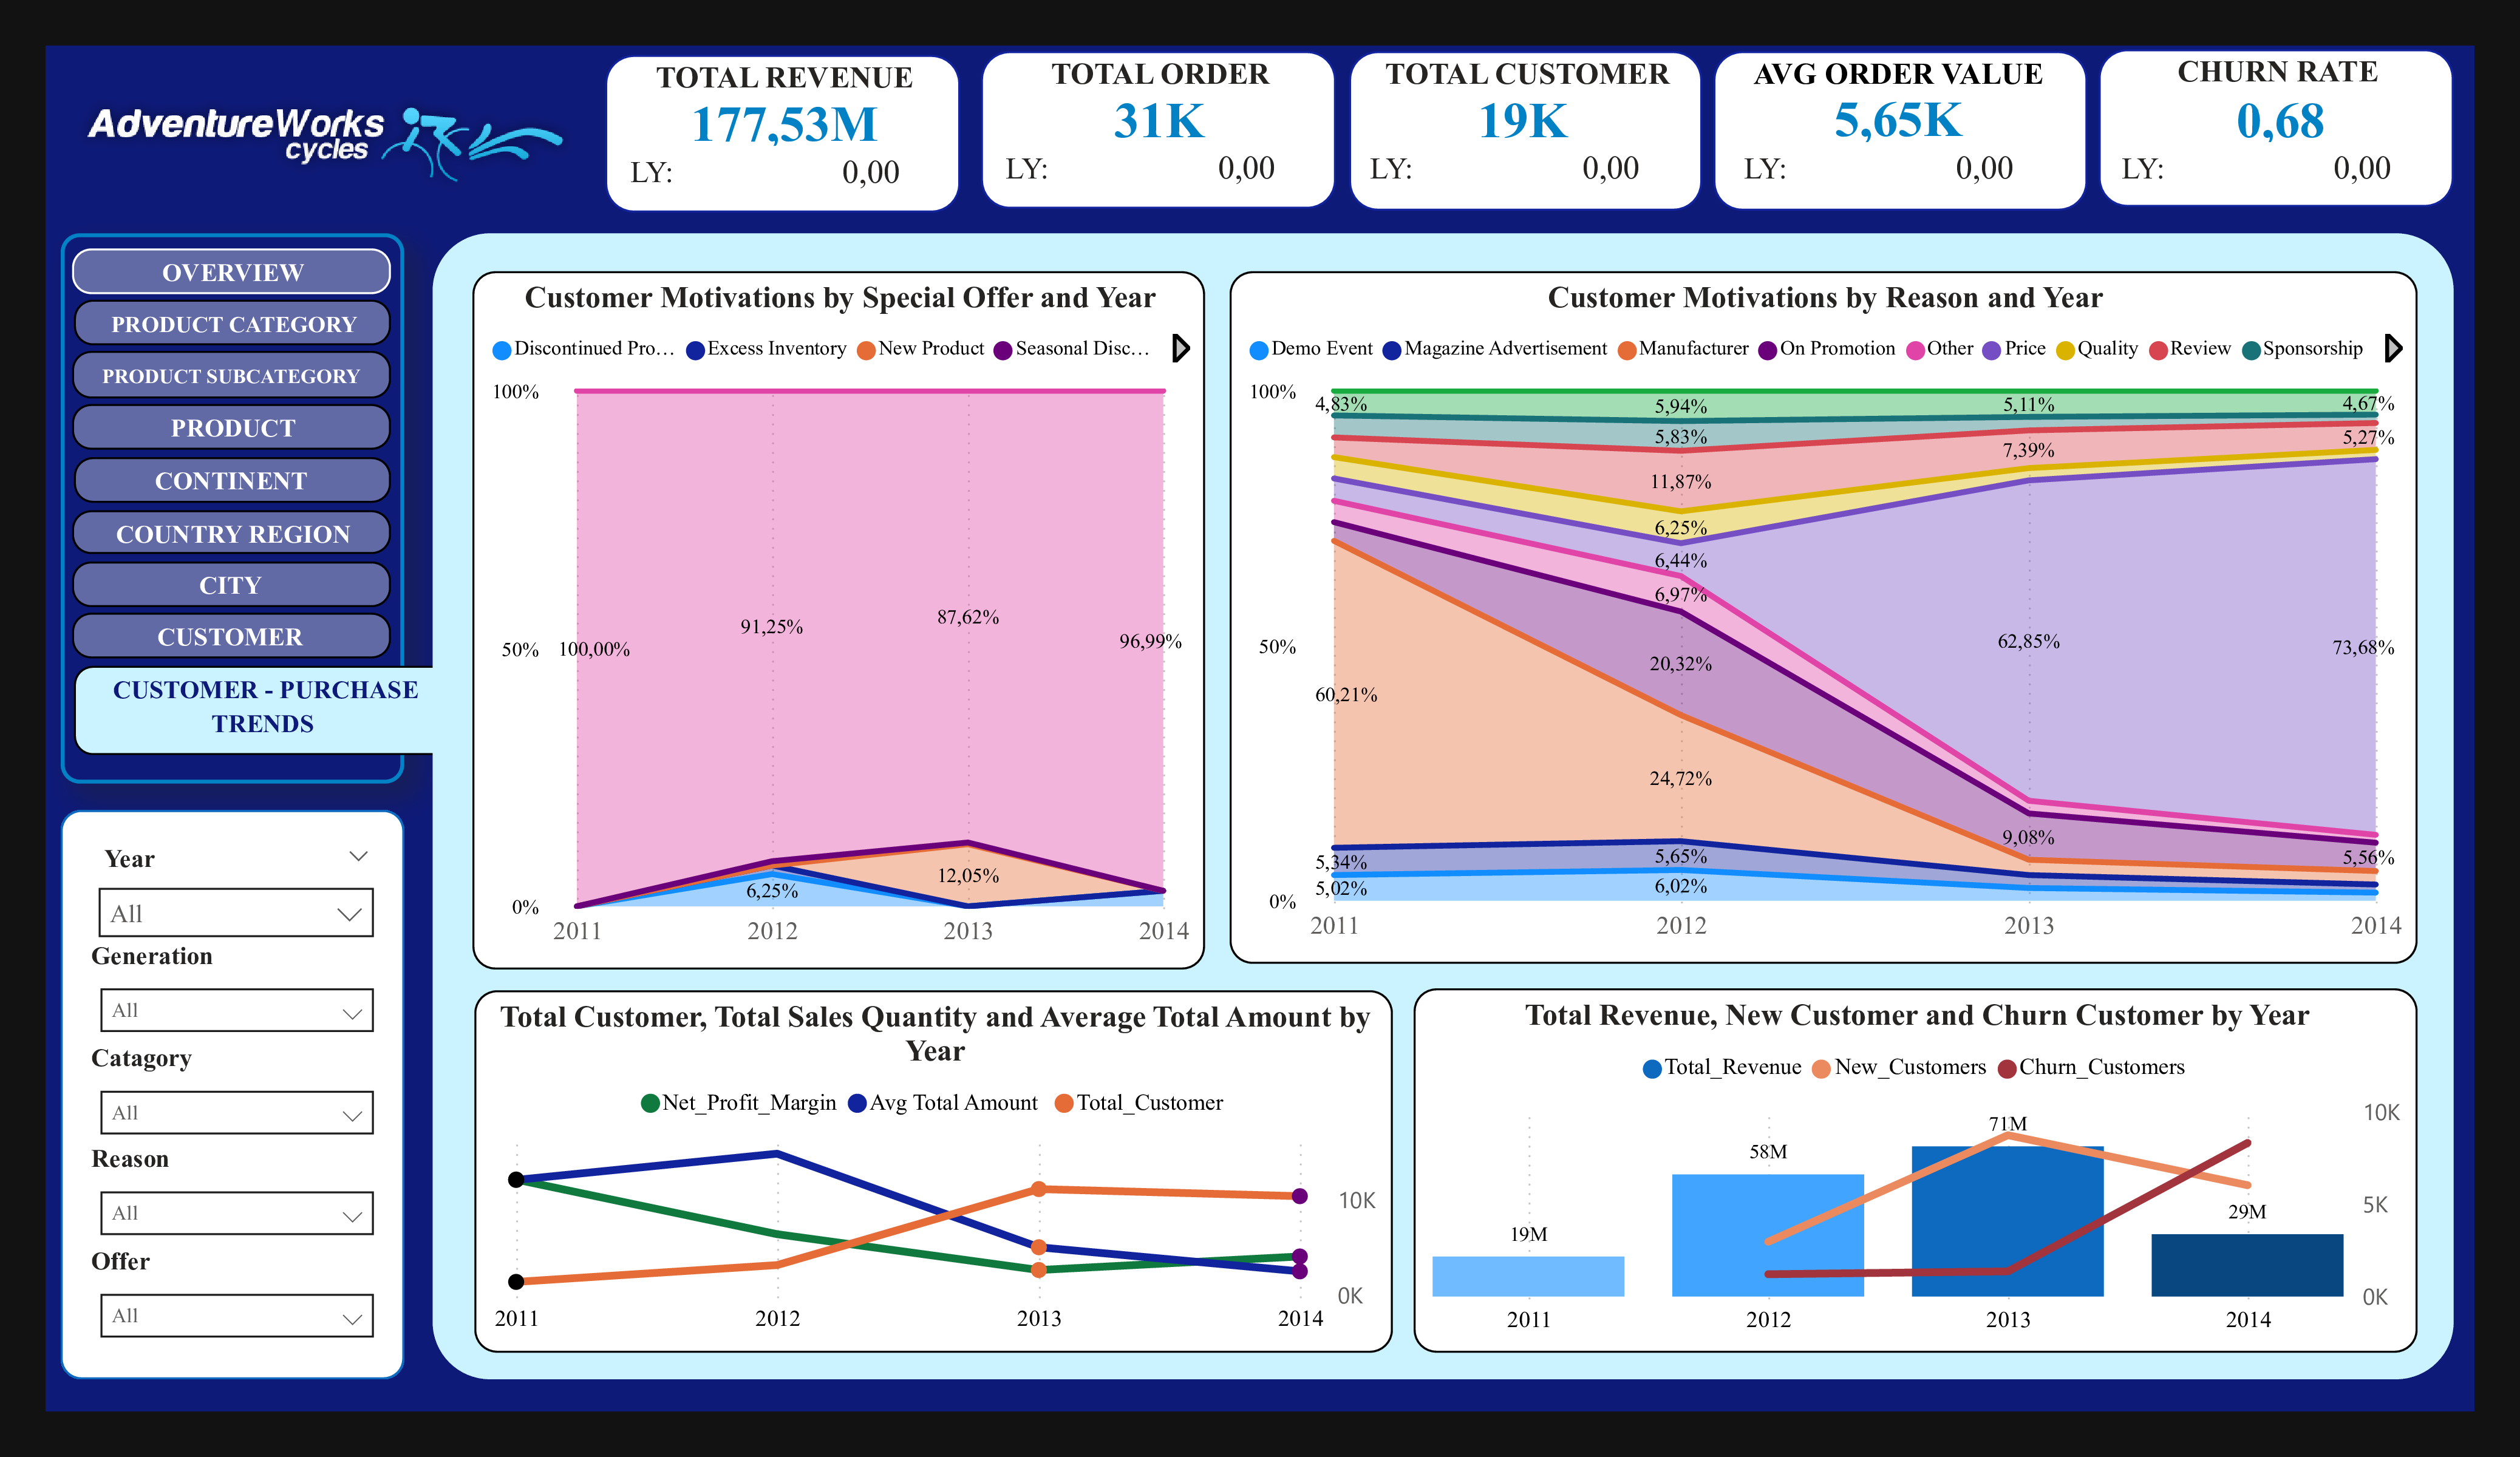

This screenshot's page, from the dashboard's own definition file:
{"tool":"powerbi","page":{"name":"Customer - Purchase Trends","canvas":[1280,720],"ordinal":8},"visuals":[{"type":"textbox","box":[1081.7,1.9,186.7,83.3],"z":0,"group":"g17"},{"type":"textbox","box":[686.8,2.9,186.4,83.6],"z":0,"group":"g18"},{"type":"textbox","box":[879.5,2.9,197.1,83.6],"z":0,"group":"g19"},{"type":"textbox","box":[493.3,3.3,186.7,83.3],"z":0,"group":"g13"},{"type":"textbox","box":[295.4,4.6,186.7,83.3],"z":0,"group":"g12"},{"type":"group","id":"g1","title":"Group 3","box":[1088.8,50.5,94.3,29.3],"z":0,"group":"g6"},{"type":"textbox","box":[1088.8,50.5,83.6,29.3],"z":0,"group":"g1"},{"type":"group","id":"g2","title":"Group 3","box":[890.9,50.8,94.3,29.3],"z":0,"group":"g7"},{"type":"textbox","box":[890.9,50.8,83.6,29.3],"z":0,"group":"g2"},{"type":"group","id":"g3","title":"Group 3","box":[692.3,51.2,94.3,29.3],"z":0,"group":"g8"},{"type":"textbox","box":[692.3,51.2,83.6,29.3],"z":0,"group":"g3"},{"type":"group","id":"g4","title":"Group 3","box":[501.7,51.5,94.3,29.3],"z":0,"group":"g9"},{"type":"textbox","box":[501.7,51.5,83.6,29.3],"z":0,"group":"g4"},{"type":"group","id":"g5","title":"Group 3","box":[303.8,52.9,94.3,29.3],"z":0,"group":"g10"},{"type":"textbox","box":[303.8,52.9,83.6,29.3],"z":0,"group":"g5"},{"type":"shape","box":[7.5,99,181.5,290],"z":0},{"type":"image","box":[0,22,295,61],"z":1000},{"type":"card","fields":{"Values":["Avg(Fact_SalesOrderHeader.Total_Amount_4_Order)"]},"box":[902.1,23.4,147.5,33.3],"z":1000,"group":"g19"},{"type":"card","fields":{"Values":["Sales Customer.Churn_Rate_Year"]},"box":[1102.8,23.6,147.8,33.3],"z":1000,"group":"g17"},{"type":"card","fields":{"Values":["Fact_SalesOrderHeader.Total_Customer"]},"box":[703.5,23.7,147.5,33.3],"z":1000,"group":"g18"},{"type":"card","fields":{"Values":["Fact_SalesOrderHeader.Total_Order"]},"box":[512.9,24.1,147.5,33.3],"z":1000,"group":"g20"},{"type":"card","fields":{"Values":["Fact_SalesOrderHeader.Total_Revenue"]},"box":[315,25.4,147.5,33.3],"z":1000,"group":"g12"},{"type":"card","fields":{"Values":["Sales Customer.Pre_Churn_Rate_Year"]},"box":[1115.6,50.5,67.5,24.3],"z":1000,"group":"g1"},{"type":"card","fields":{"Values":["Sales Customer.%Change_Churn_Rate_Year"]},"box":[1183,50.6,76.2,29.2],"z":1000,"group":"g6"},{"type":"card","fields":{"Values":["Fact_SalesOrderHeader.Prev_Avg_Total_Amount_4_Order"]},"box":[917.7,50.8,67.5,24.3],"z":1000,"group":"g2"},{"type":"card","fields":{"Values":["Fact_SalesOrderHeader.%Change_Avg_Total_Amount_4_Order"]},"box":[985.1,50.9,76.2,29.2],"z":1000,"group":"g7"},{"type":"card","fields":{"Values":["Fact_SalesOrderHeader.Prev_Total_Customer"]},"box":[719.1,51.2,67.5,24.3],"z":1000,"group":"g3"},{"type":"card","fields":{"Values":["Fact_SalesOrderHeader.%Change_Total_Customer"]},"box":[786.5,51.3,76.2,29.2],"z":1000,"group":"g8"},{"type":"card","fields":{"Values":["Fact_SalesOrderHeader.Prev_Total_Order"]},"box":[528.5,51.5,67.5,24.3],"z":1000,"group":"g4"},{"type":"card","fields":{"Values":["Fact_SalesOrderHeader.%Change_Total_Order"]},"box":[595.9,51.6,76.2,29.2],"z":1000,"group":"g9"},{"type":"card","fields":{"Values":["Fact_SalesOrderHeader.Prev_Total_Revenue"]},"box":[330.6,52.9,67.5,24.3],"z":1000,"group":"g5"},{"type":"card","fields":{"Values":["Fact_SalesOrderHeader.%Change_Revenue"]},"box":[398,53,76.2,29.2],"z":1000,"group":"g10"},{"type":"textbox","box":[14.4,106.9,167.5,23.8],"z":2000},{"type":"textbox","box":[14.8,134.1,167,24.1],"z":3000},{"type":"textbox","box":[14.4,161.5,167.4,24.1],"z":4000},{"type":"textbox","box":[14.4,188.9,167.4,24.4],"z":5000},{"type":"textbox","box":[14.7,216.8,167.4,23.7],"z":6000},{"type":"textbox","box":[14.2,244.7,167.4,23.7],"z":7000},{"type":"group","id":"g6","title":"Group 4","box":[1088.8,50.5,170.6,29.4],"z":8000,"group":"g17"},{"type":"group","id":"g7","title":"Group 4","box":[890.9,50.8,170.5,29.3],"z":8000,"group":"g19"},{"type":"group","id":"g8","title":"Group 4","box":[692.3,51.2,170.5,29.3],"z":8000,"group":"g18"},{"type":"group","id":"g9","title":"Group 4","box":[501.7,51.5,170.5,29.3],"z":8000,"group":"g20"},{"type":"group","id":"g10","title":"Group 4","box":[303.8,52.9,170.5,29.3],"z":8000,"group":"g12"},{"type":"textbox","box":[14.2,272.1,167.4,23.7],"z":8000},{"type":"textbox","box":[14.2,299.5,167.4,23.7],"z":9000},{"type":"textbox","box":[15,326.9,200,47.5],"z":10000},{"type":"shape","box":[8.2,402.5,181.2,300],"z":11000},{"type":"slicer","fields":{"Values":["Datetime.OrderDate.Variation.Date Hierarchy.Year"]},"box":[18.2,416.2,165.2,56.5],"z":11000,"group":"g11"},{"type":"group","id":"g11","title":"Group 1","box":[18.2,416.2,165,272.5],"z":12000},{"type":"slicer","title":"Catagory ","fields":{"Values":["ProductCategory.Name"]},"box":[19,526.6,164.4,52.7],"z":12000,"group":"g11"},{"type":"shape","box":[203.8,98.8,1065,603.8],"z":13000},{"type":"slicer","title":"Reason ","fields":{"Values":["SalesReason.Name"]},"box":[19,579.3,164.4,54],"z":13000,"group":"g11"},{"type":"hundredPercentStackedAreaChart","title":"Customer Motivations by Reason and Year","fields":{"Category":["Datetime.OrderDate.Variation.Date Hierarchy.Year"],"Series":["SalesReason.Name"],"Y":["Fact_SalesOrderHeader.Total_Customer"]},"box":[624,118.6,625.7,365.7],"z":14000},{"type":"slicer","title":"Offer ","fields":{"Values":["SpecialOffer.Type"]},"box":[19,633.3,164.4,55.2],"z":14000,"group":"g11"},{"type":"slicer","title":"Generation","fields":{"Values":["Sales Customer.Generation"]},"box":[19,472.7,164.4,55.2],"z":15000,"group":"g11"},{"type":"lineChart","title":"Total Customer, Total Sales Quantity and Average Total Amount by Year","fields":{"Category":["Datetime.OrderDate.Variation.Date Hierarchy.Year"],"Y2":["Avg(Fact_SalesOrderHeader.Total_Amount_4_Order)","Fact_SalesOrderHeader.Total_Customer"],"Y":["Fact_SalesOrderHeader.Net_Profit_Margin"]},"box":[226.2,497.5,483.8,191.2],"z":15000},{"type":"hundredPercentStackedAreaChart","title":"Customer Motivations  by Special Offer and Year","fields":{"Category":["Datetime.OrderDate.Variation.Date Hierarchy.Year"],"Series":["SpecialOffer.Type"],"Y":["Fact_SalesOrderHeader.Total_Customer"]},"box":[225.4,118.6,385.7,368.6],"z":16000},{"type":"lineStackedColumnComboChart","title":"Total Revenue, New Customer and Churn Customer by Year","fields":{"Category":["Datetime.OrderDate.Variation.Date Hierarchy.Year"],"Y":["Fact_SalesOrderHeader.Total_Revenue"],"Y2":["Sales Customer.New_Customers","Sales Customer.Churn_Customers"]},"box":[721.4,497.1,528.6,191.4],"z":17000},{"type":"group","id":"g12","title":"Group 2","box":[295.4,4.6,186.7,83.3],"z":18000},{"type":"group","id":"g13","title":"Group 2","box":[493.3,3.3,186.7,83.3],"z":19000},{"type":"group","id":"g14","title":"Group 2","box":[686.8,2.9,186.7,84.2],"z":20000},{"type":"group","id":"g15","title":"Group 2","box":[879.5,2.9,197.1,83.6],"z":21000},{"type":"group","id":"g16","title":"Group 2","box":[1081.7,1.9,186.7,83.3],"z":22000},{"type":"group","id":"g17","title":"Group 8","box":[1081.7,1.9,186.7,83.3],"z":22001,"group":"g16"},{"type":"group","id":"g18","title":"Group 6","box":[686.8,2.9,186.4,83.6],"z":22001,"group":"g14"},{"type":"group","id":"g19","title":"Group 7","box":[879.5,2.9,197.1,83.6],"z":22001,"group":"g15"},{"type":"group","id":"g20","title":"Group 5","box":[501.7,24.1,170.5,56.7],"z":22001,"group":"g13"}]}

Visuals, with their boxes on the page's 1280x720 design canvas (x1, y1, x2, y2). These are canvas units, not pixel positions in the 2520x1457 screenshot, which may show the page scaled, cropped or inside an application window:
textbox: bbox=(1082, 2, 1268, 85)
textbox: bbox=(687, 3, 873, 86)
textbox: bbox=(880, 3, 1077, 86)
textbox: bbox=(493, 3, 680, 87)
textbox: bbox=(295, 5, 482, 88)
"Group 3" group: bbox=(1089, 50, 1183, 80)
textbox: bbox=(1089, 50, 1172, 80)
"Group 3" group: bbox=(891, 51, 985, 80)
textbox: bbox=(891, 51, 974, 80)
"Group 3" group: bbox=(692, 51, 787, 80)
textbox: bbox=(692, 51, 776, 80)
"Group 3" group: bbox=(502, 52, 596, 81)
textbox: bbox=(502, 52, 585, 81)
"Group 3" group: bbox=(304, 53, 398, 82)
textbox: bbox=(304, 53, 387, 82)
shape: bbox=(8, 99, 189, 389)
image: bbox=(0, 22, 295, 83)
card - Avg(Fact_SalesOrderHeader.Total_Amount_4_Order): bbox=(902, 23, 1050, 57)
card - Sales Customer.Churn_Rate_Year: bbox=(1103, 24, 1251, 57)
card - Fact_SalesOrderHeader.Total_Customer: bbox=(704, 24, 851, 57)
card - Fact_SalesOrderHeader.Total_Order: bbox=(513, 24, 660, 57)
card - Fact_SalesOrderHeader.Total_Revenue: bbox=(315, 25, 462, 59)
card - Sales Customer.Pre_Churn_Rate_Year: bbox=(1116, 50, 1183, 75)
card - Sales Customer.%Change_Churn_Rate_Year: bbox=(1183, 51, 1259, 80)
card - Fact_SalesOrderHeader.Prev_Avg_Total_Amount_4_Order: bbox=(918, 51, 985, 75)
card - Fact_SalesOrderHeader.%Change_Avg_Total_Amount_4_Order: bbox=(985, 51, 1061, 80)
card - Fact_SalesOrderHeader.Prev_Total_Customer: bbox=(719, 51, 787, 76)
card - Fact_SalesOrderHeader.%Change_Total_Customer: bbox=(786, 51, 863, 80)
card - Fact_SalesOrderHeader.Prev_Total_Order: bbox=(528, 52, 596, 76)
card - Fact_SalesOrderHeader.%Change_Total_Order: bbox=(596, 52, 672, 81)
card - Fact_SalesOrderHeader.Prev_Total_Revenue: bbox=(331, 53, 398, 77)
card - Fact_SalesOrderHeader.%Change_Revenue: bbox=(398, 53, 474, 82)
textbox: bbox=(14, 107, 182, 131)
textbox: bbox=(15, 134, 182, 158)
textbox: bbox=(14, 162, 182, 186)
textbox: bbox=(14, 189, 182, 213)
textbox: bbox=(15, 217, 182, 240)
textbox: bbox=(14, 245, 182, 268)
"Group 4" group: bbox=(1089, 50, 1259, 80)
"Group 4" group: bbox=(891, 51, 1061, 80)
"Group 4" group: bbox=(692, 51, 863, 80)
"Group 4" group: bbox=(502, 52, 672, 81)
"Group 4" group: bbox=(304, 53, 474, 82)
textbox: bbox=(14, 272, 182, 296)
textbox: bbox=(14, 300, 182, 323)
textbox: bbox=(15, 327, 215, 374)
shape: bbox=(8, 402, 189, 702)
slicer - Datetime.OrderDate.Variation.Date Hierarchy.Year: bbox=(18, 416, 183, 473)
"Group 1" group: bbox=(18, 416, 183, 689)
"Catagory " slicer: bbox=(19, 527, 183, 579)
shape: bbox=(204, 99, 1269, 703)
"Reason " slicer: bbox=(19, 579, 183, 633)
"Customer Motivations by Reason and Year" hundredPercentStackedAreaChart: bbox=(624, 119, 1250, 484)
"Offer " slicer: bbox=(19, 633, 183, 688)
"Generation" slicer: bbox=(19, 473, 183, 528)
"Total Customer, Total Sales Quantity and Average Total Amount by Year" lineChart: bbox=(226, 498, 710, 689)
"Customer Motivations  by Special Offer and Year" hundredPercentStackedAreaChart: bbox=(225, 119, 611, 487)
"Total Revenue, New Customer and Churn Customer by Year" lineStackedColumnComboChart: bbox=(721, 497, 1250, 688)
"Group 2" group: bbox=(295, 5, 482, 88)
"Group 2" group: bbox=(493, 3, 680, 87)
"Group 2" group: bbox=(687, 3, 874, 87)
"Group 2" group: bbox=(880, 3, 1077, 86)
"Group 2" group: bbox=(1082, 2, 1268, 85)
"Group 8" group: bbox=(1082, 2, 1268, 85)
"Group 6" group: bbox=(687, 3, 873, 86)
"Group 7" group: bbox=(880, 3, 1077, 86)
"Group 5" group: bbox=(502, 24, 672, 81)
